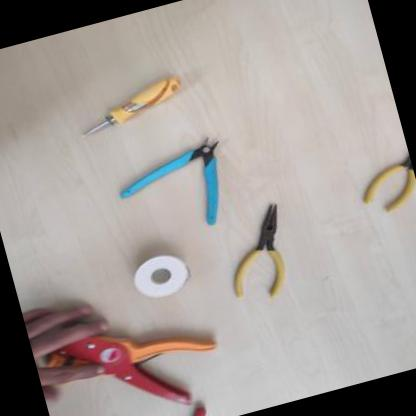Screwdriver: (66, 67, 192, 142)
